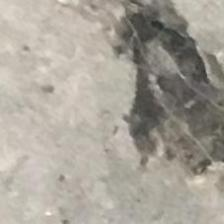Crack: (83, 0, 224, 175)
